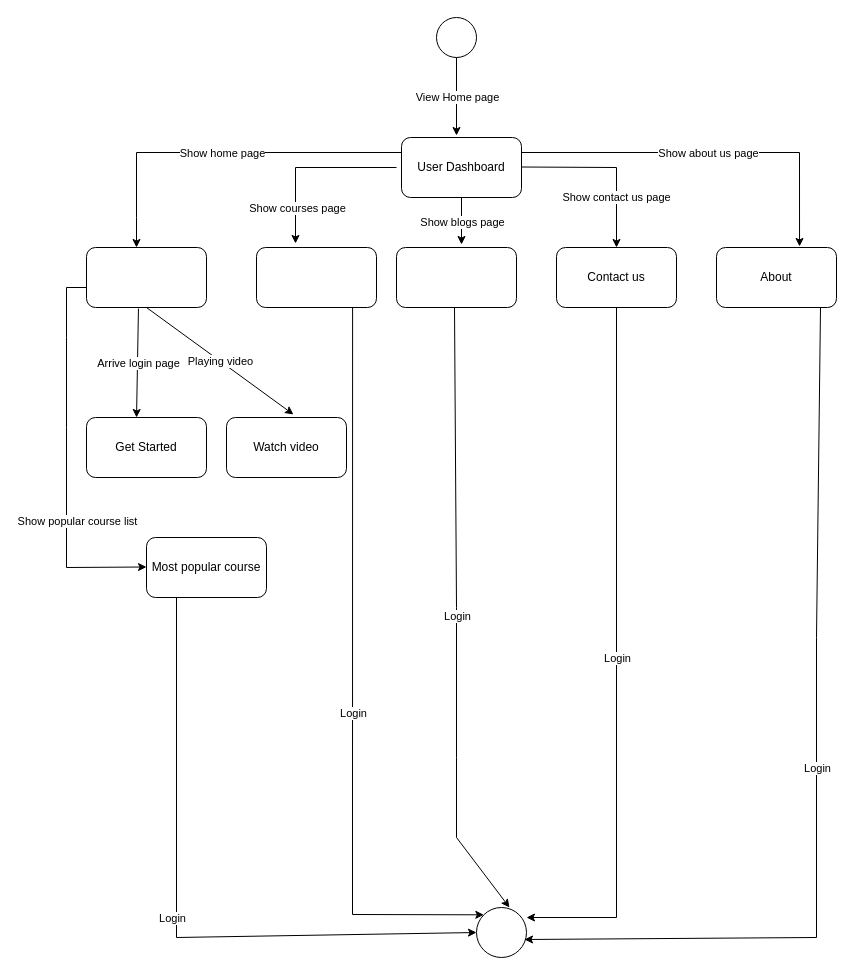
Image size: 854x975. Some labels were removed from this diagram. Each missing label, with the centre of its shape:
"Blogs" goes at pixel 456 277.
"Courses" goes at pixel 316 277.
"Home" goes at pixel 146 277.
